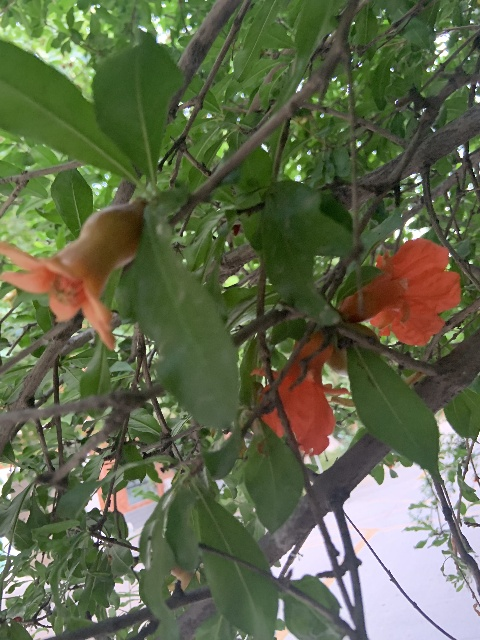early-fruit: (0, 199, 144, 350)
flower: (338, 238, 461, 346), (255, 332, 351, 456)
